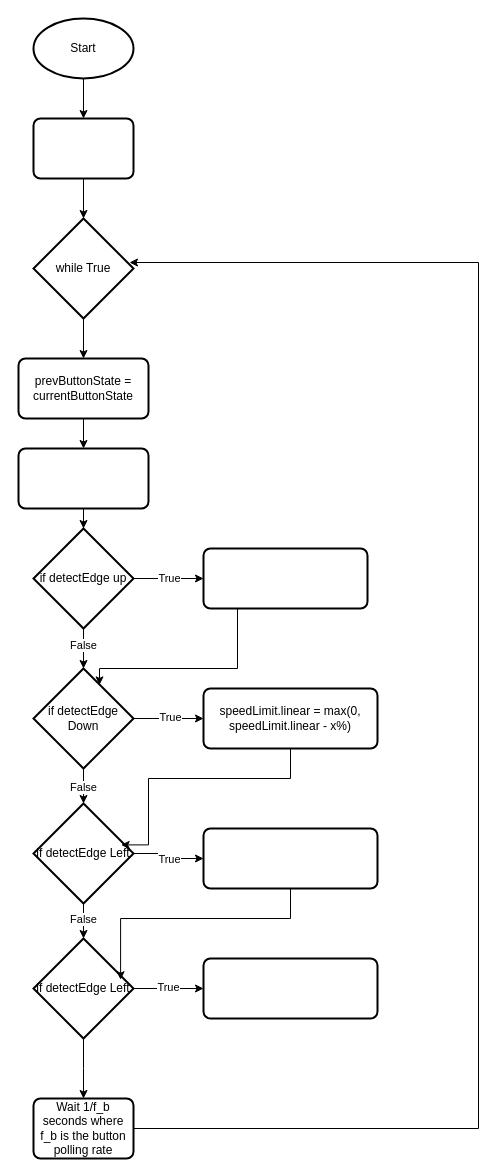
Image size: 504x1176. Some labels were removed from this diagram. Each missing label, with the centre of its shape:
"Init pins, etc" goes at (83,148).
"read current button state and store in currentButtonState" goes at (83,478).
"speedLimit.angular = max(0, speedLimit.angular - x%)" goes at (290,858).
"speedLimit.angular = min(1, speedLimit.angular + x%)" goes at (290,988).
"speedLimit.linear = min(1, speedLimit.linear+x%)" goes at (285,578).
